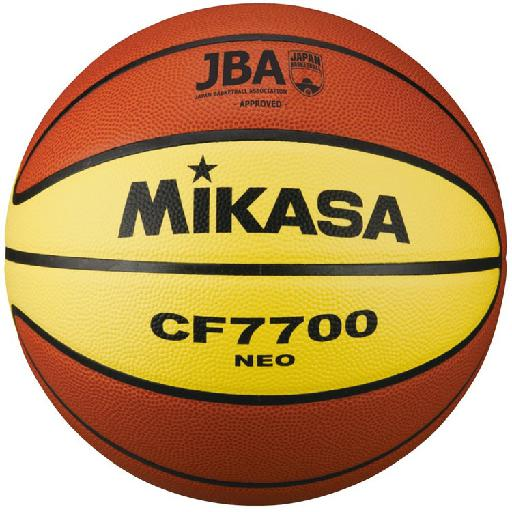ball: (7, 4, 508, 506)
